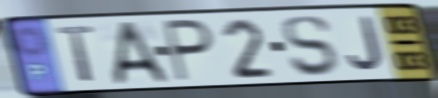2: (220, 16, 276, 80)
A: (112, 19, 172, 87)
J: (346, 15, 386, 73)
P: (161, 17, 216, 84)
S: (280, 13, 340, 79)
T: (54, 24, 98, 85)
